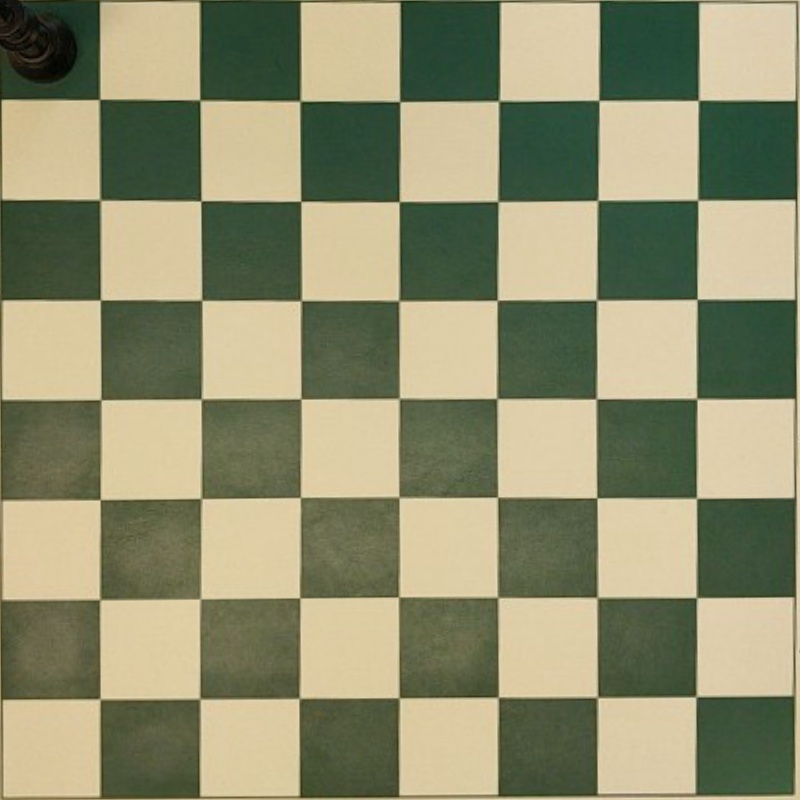black-king: (0, 0, 77, 81)
